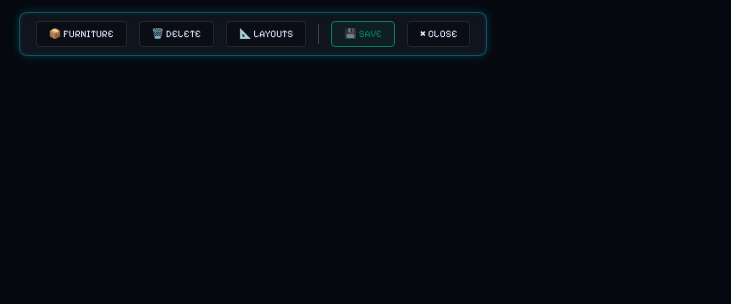
it: Issue #87 — mobile toolbar / room switcher overlap › opens the layout manager when Layouts is clicked
Click the button titled "Layout manager". click: x=266, y=34
box: [226,21,306,47]
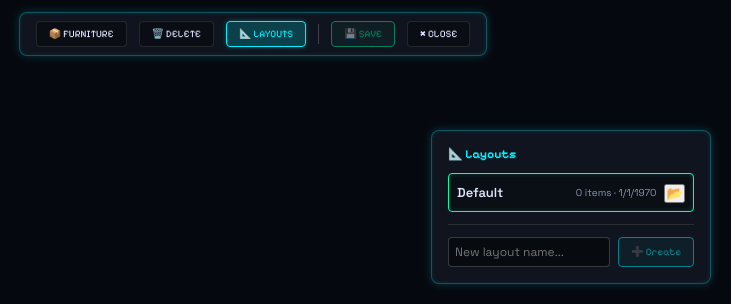
Expected: the text "Default" is shown, [457,184,503,201]
